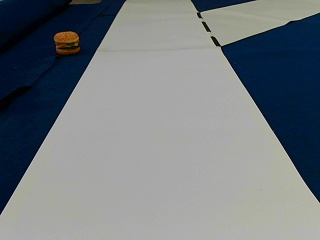burger: (53, 29, 79, 54)
